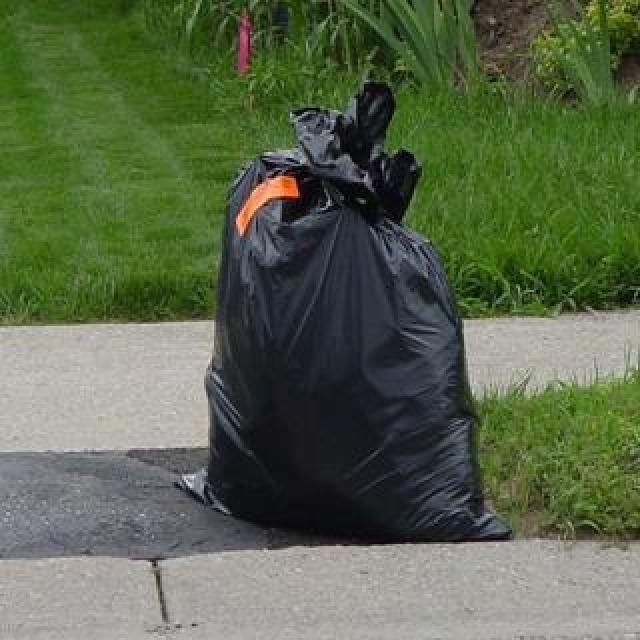Trashbag: (165, 106, 536, 540)
